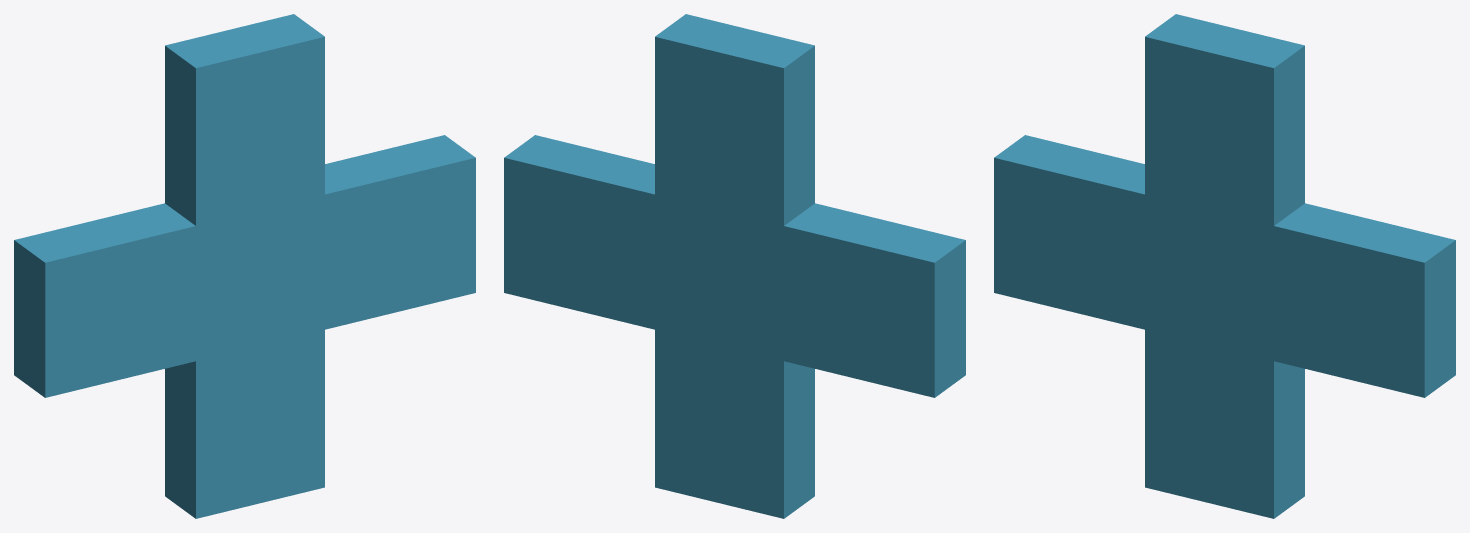
File: status-rescue.glb
3 views of the same model, side by side, from view 1: azimuth 30°, elevation 25°; view 2: azimuth 150°, elevation 25°; view 3: azimuth 330°, elevation 25° (orthographic).
Visible parts, largest first — view 1: status-rescue; view 2: status-rescue; view 3: status-rescue.
Part boxes in pixels (x1=…): status-rescue: x1=14, y1=14, x2=475, y2=518; status-rescue: x1=504, y1=14, x2=965, y2=518; status-rescue: x1=994, y1=14, x2=1455, y2=518.
Size of the model in its own units: 0.8 by 0.8 by 0.1.
